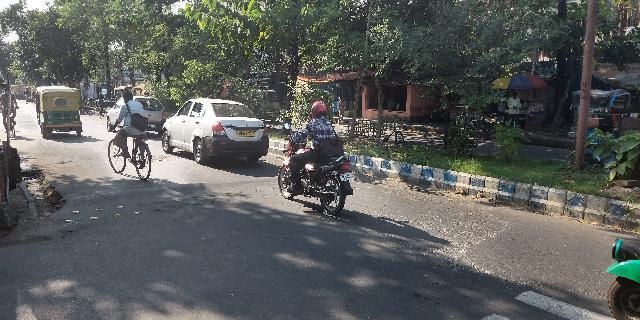Autorickshaw: (33, 85, 85, 139)
Car: (160, 97, 271, 165), (103, 95, 164, 137)
Cycle: (104, 90, 154, 183)
Motorbike: (274, 97, 358, 221)
